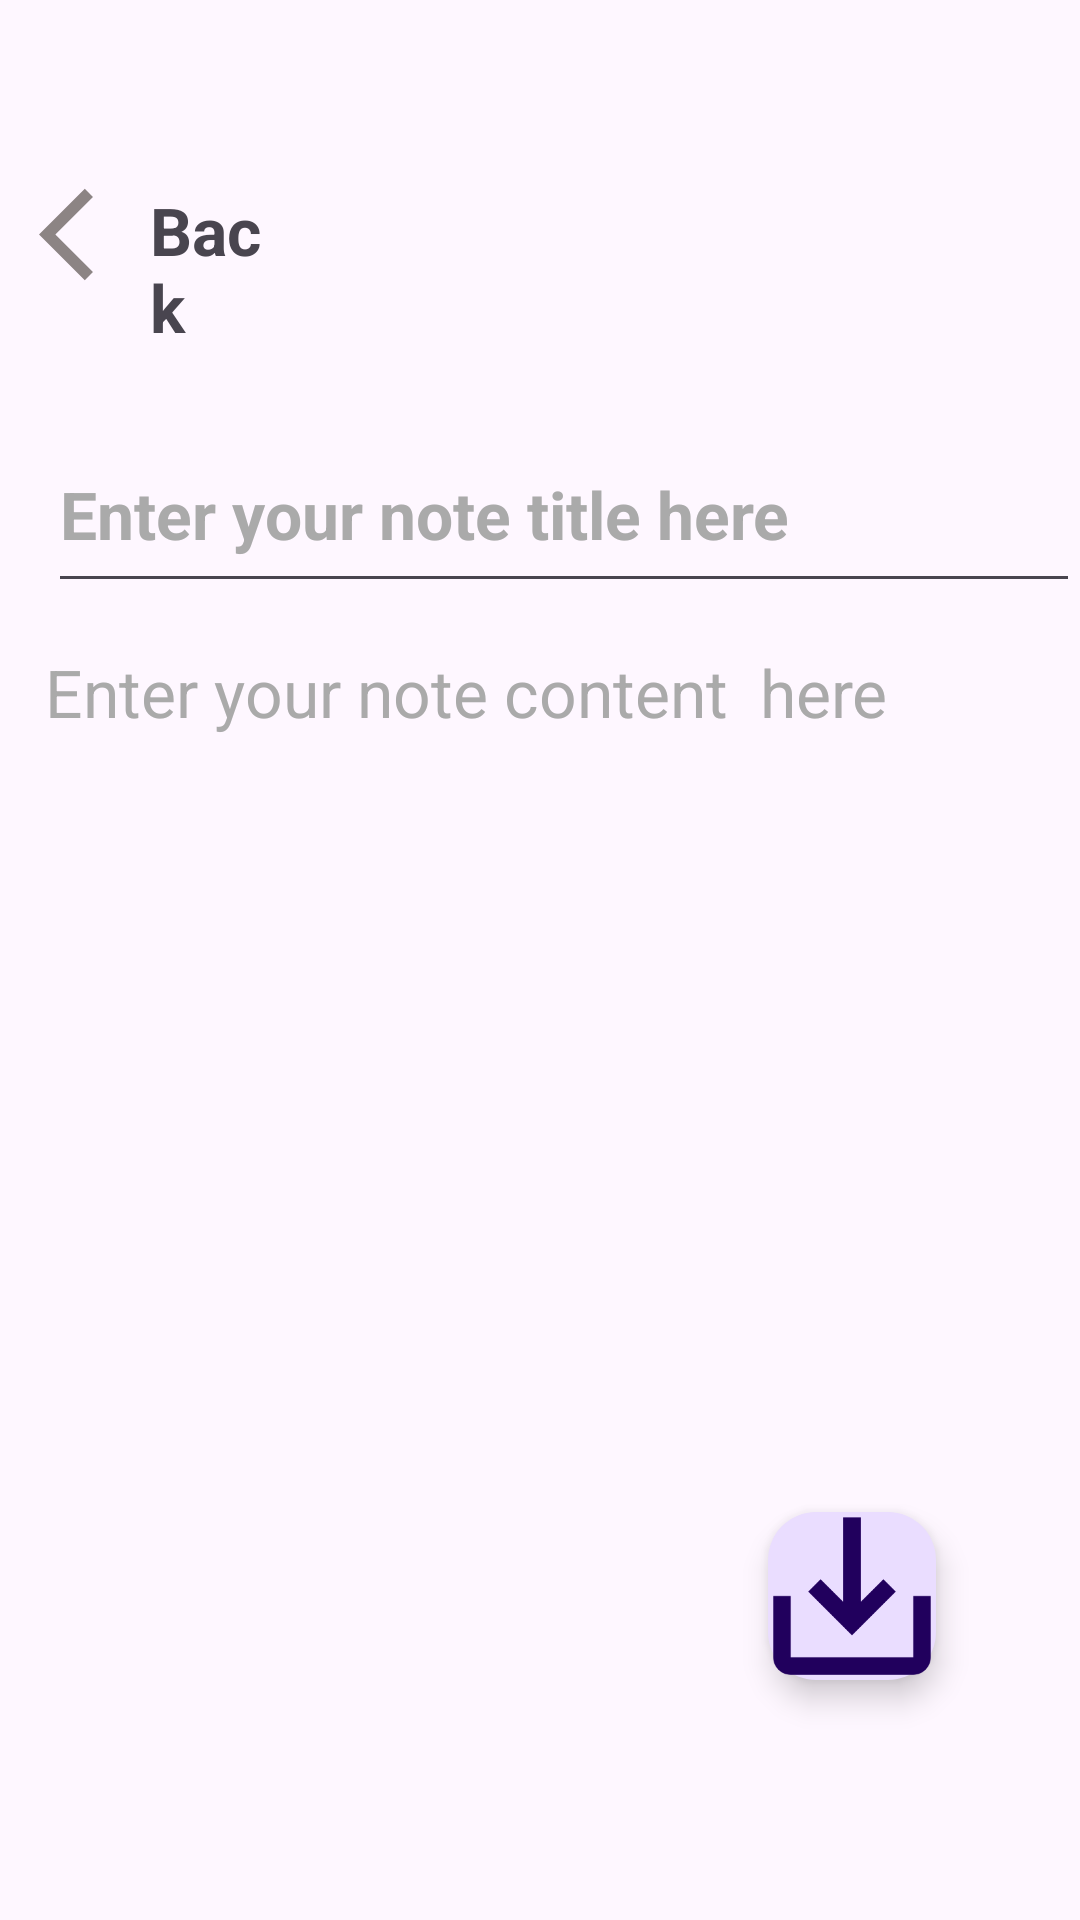

Locate icon controls on the screen. Image size 1080px×1920px, boxes as (x1, y1, x2, y2).
save: (768, 1512, 936, 1680)
